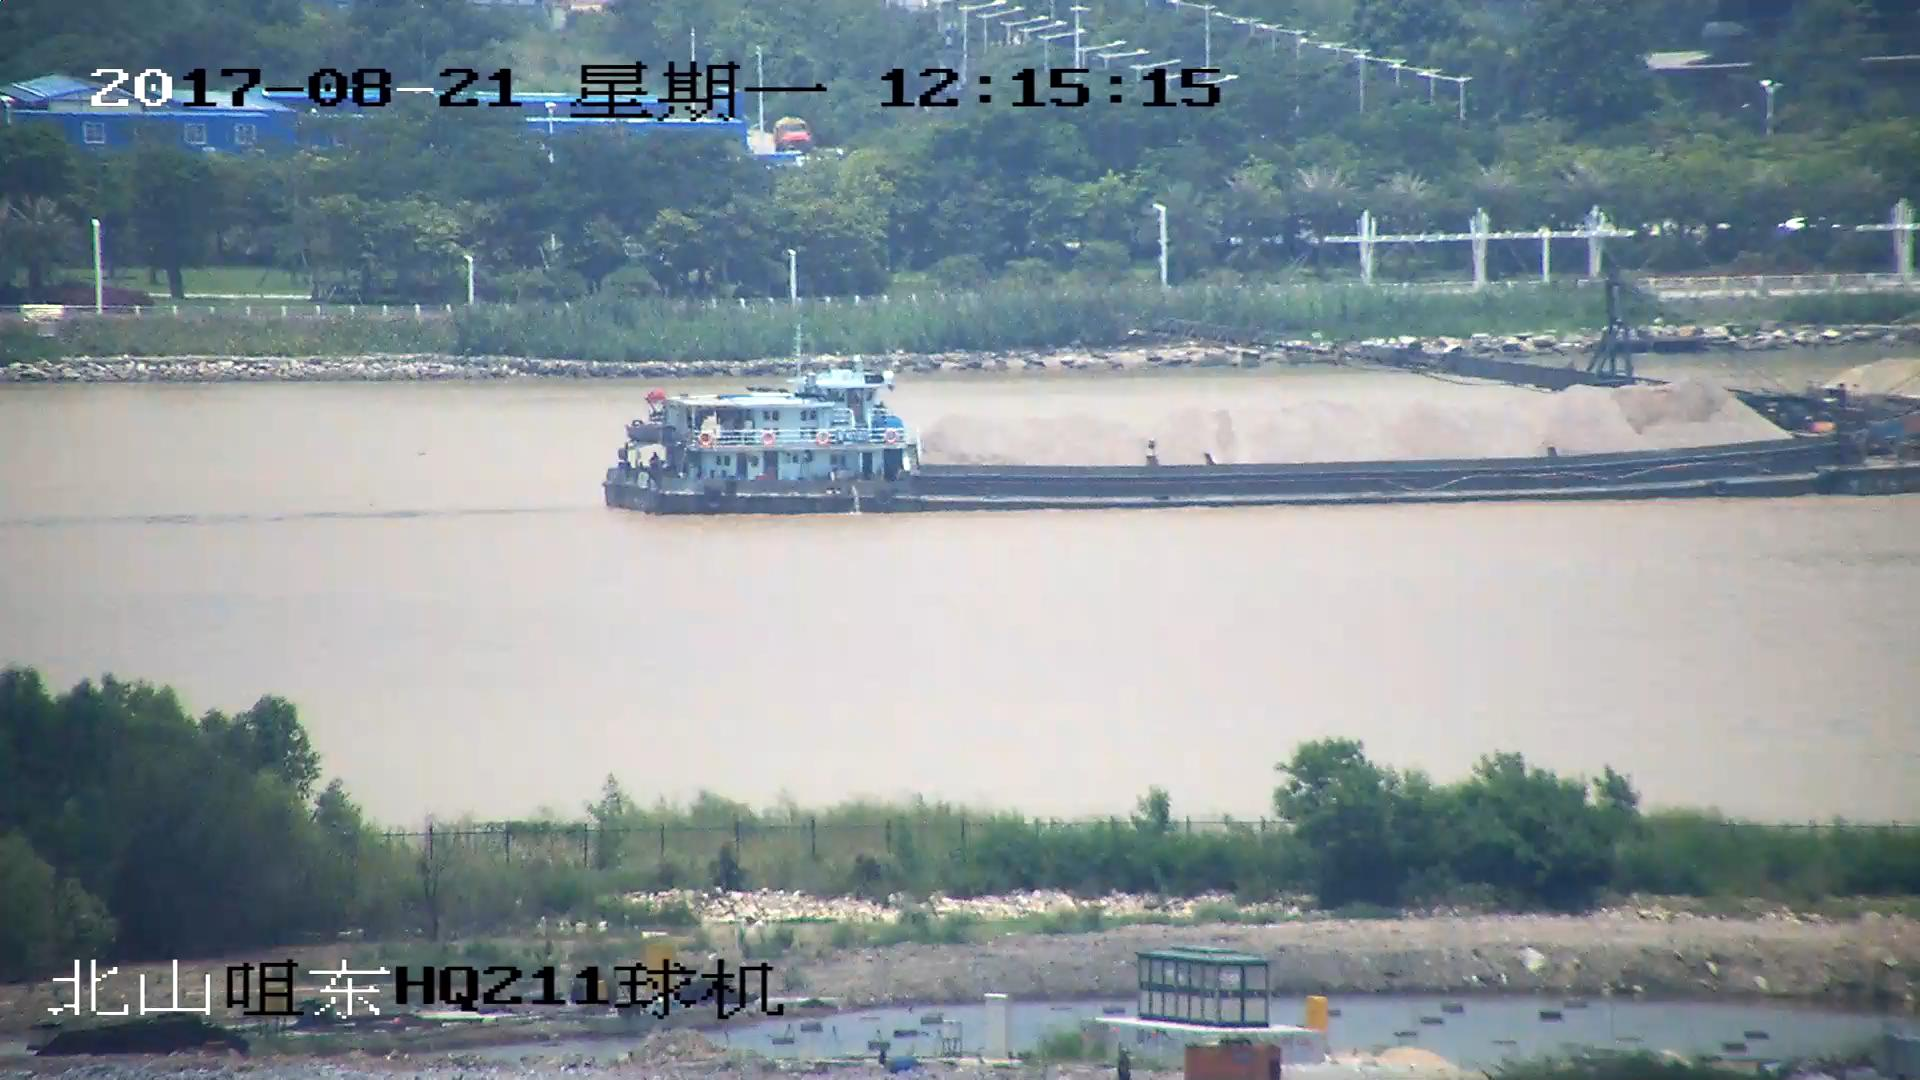ore carrier: (601, 364, 1920, 501), (1142, 301, 1920, 451)
